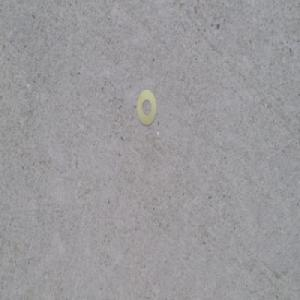Washer: (136, 91, 157, 130)
